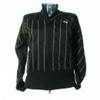abbigliamento_uomo: (15, 7, 87, 90)
